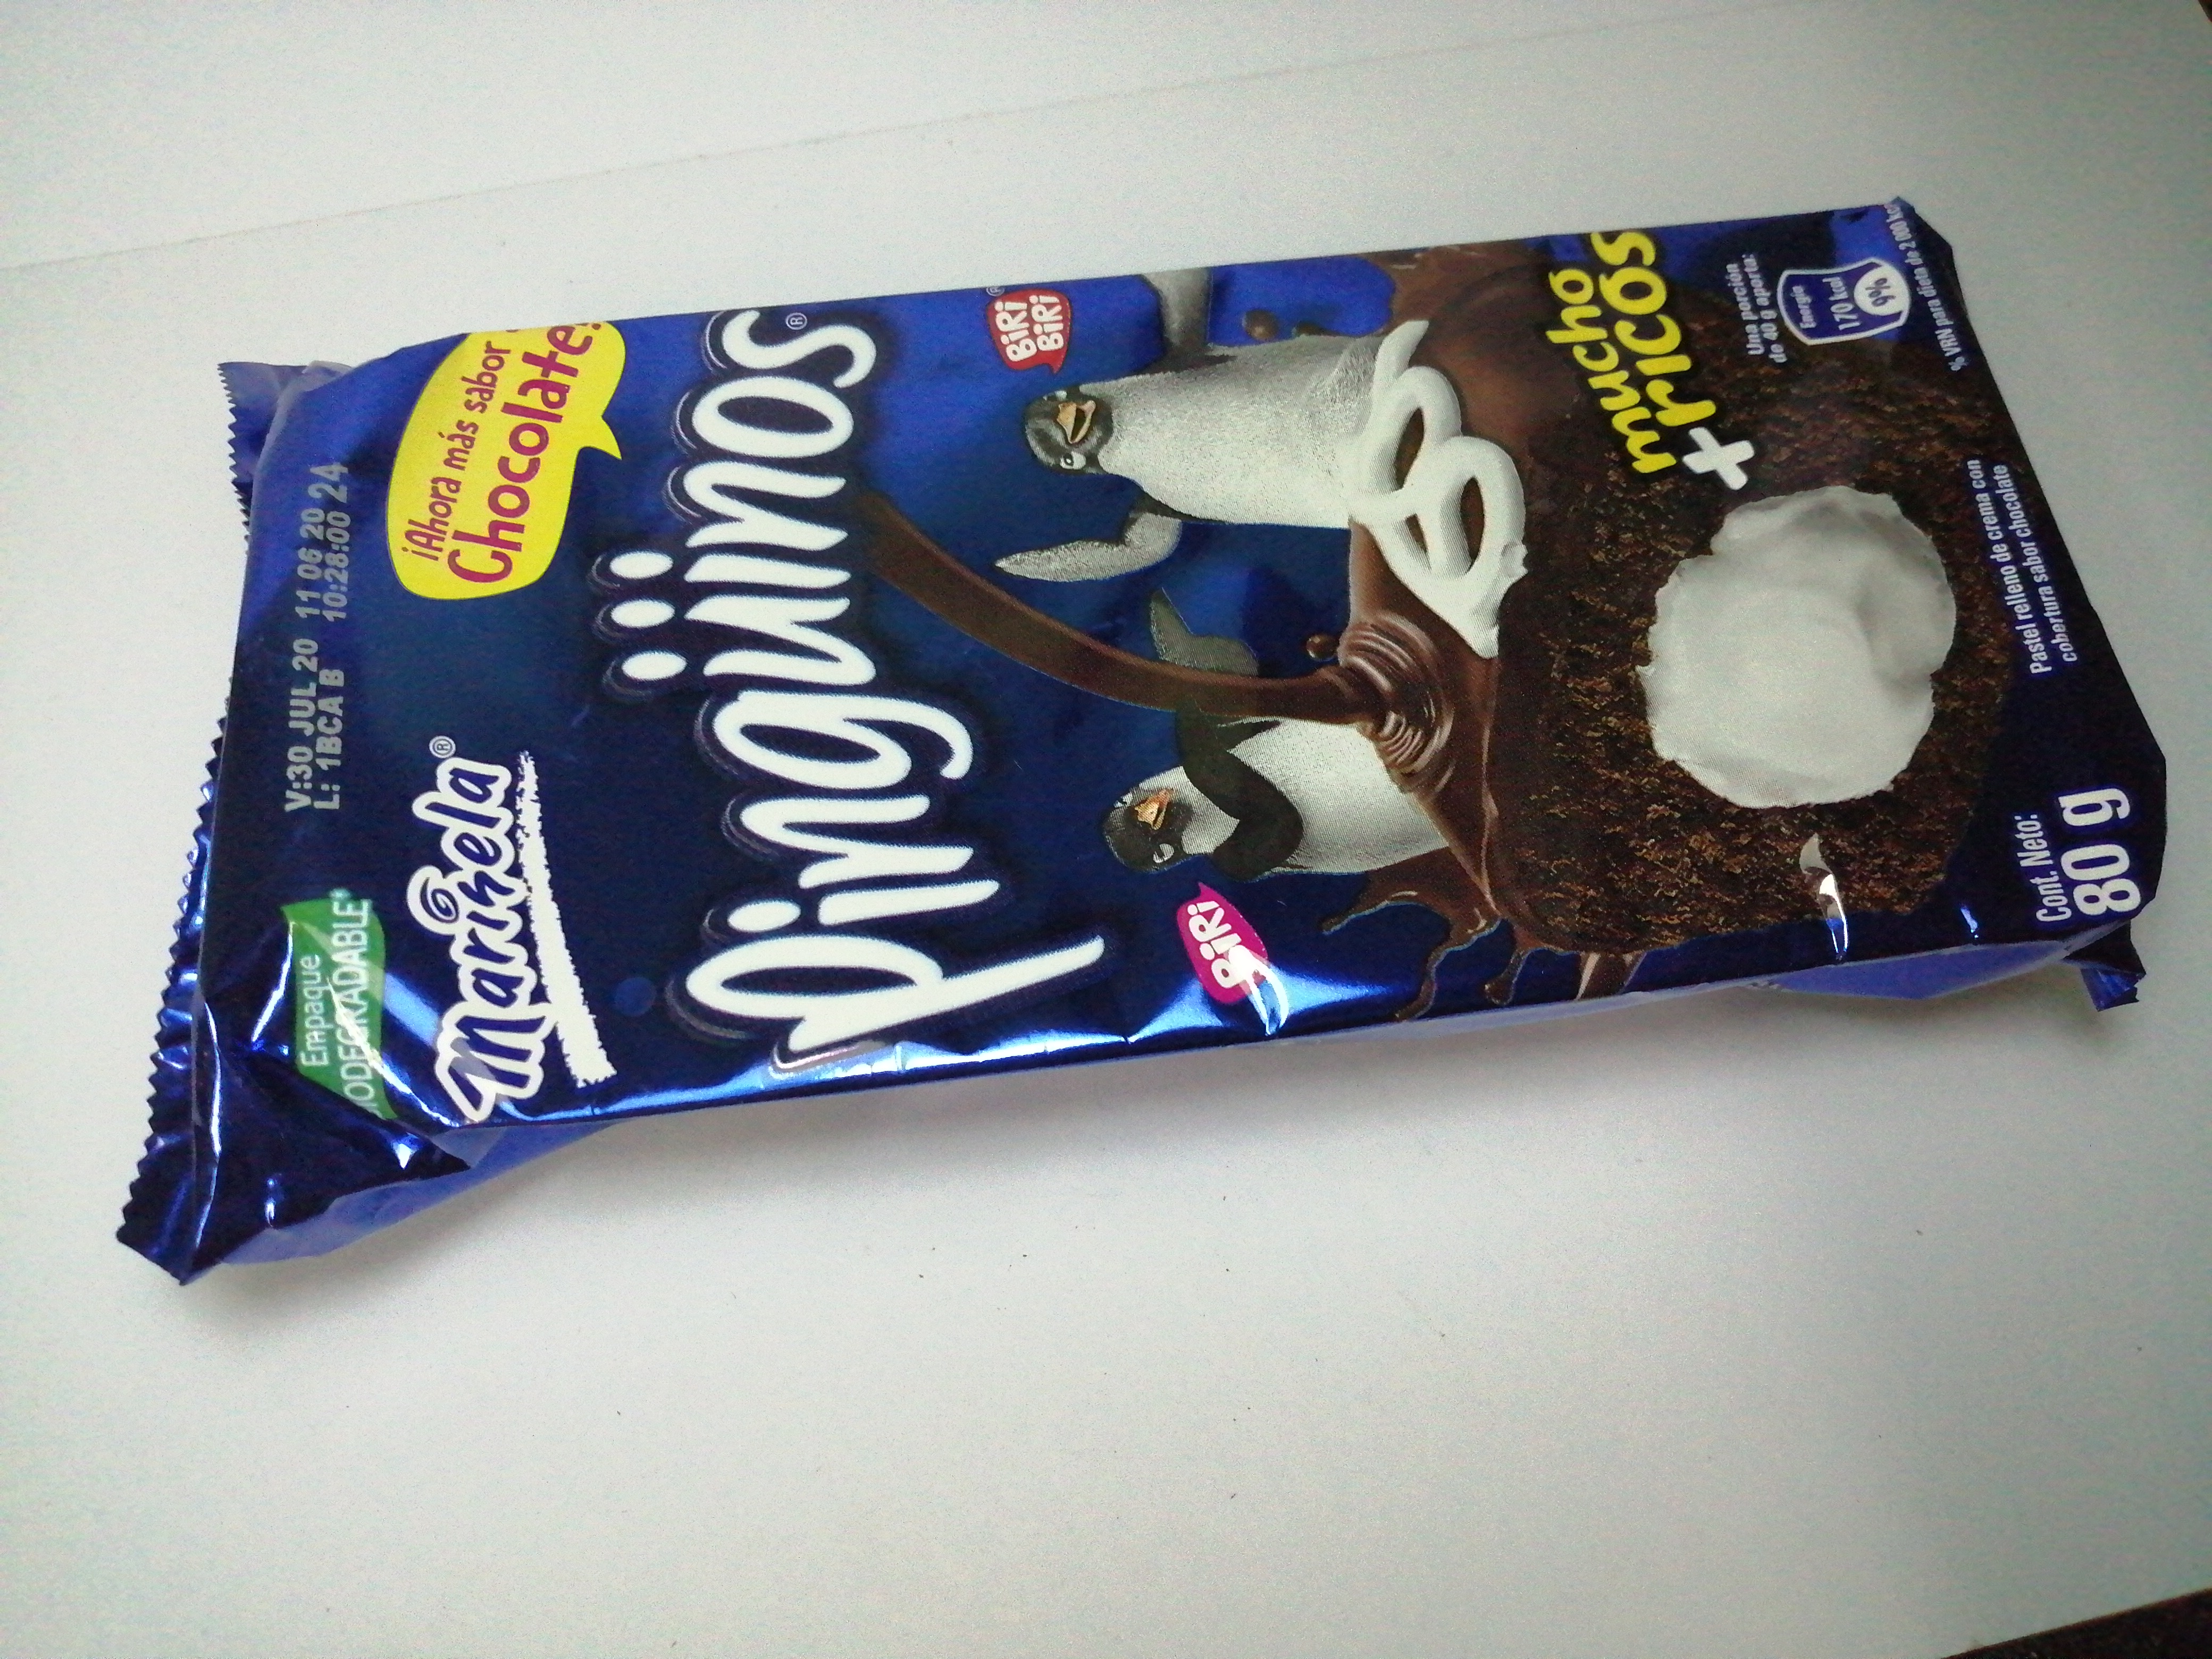pinguino: (108, 200, 2165, 1274)
